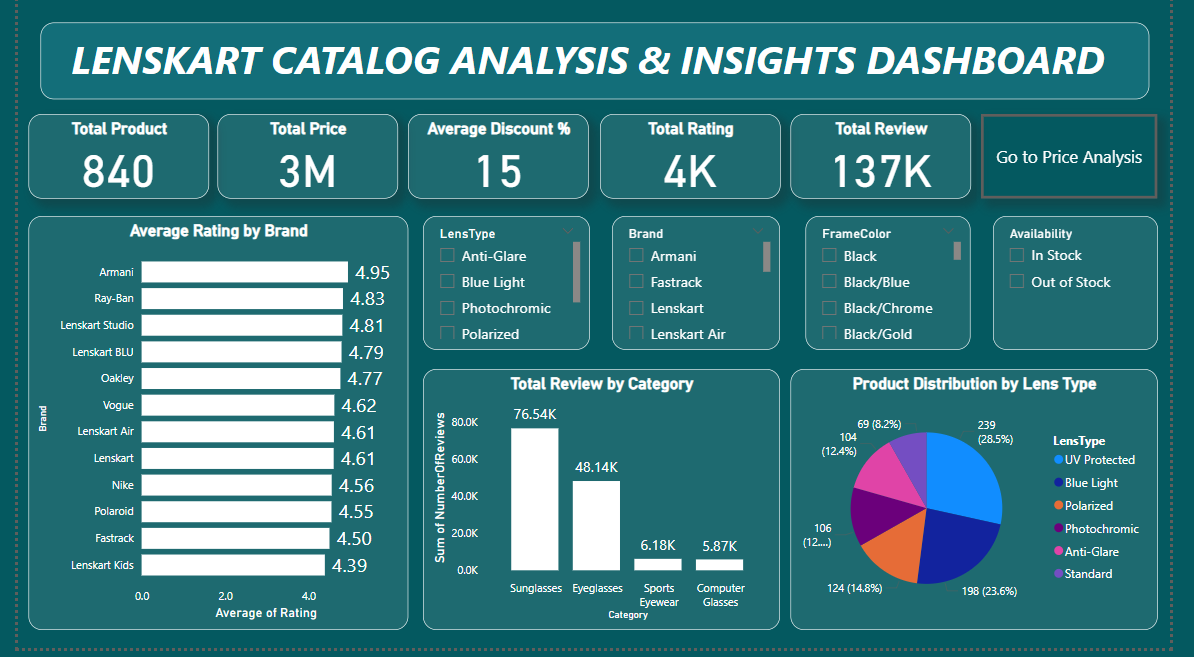

The dashboard page shown, as its layout file describes it:
{"tool":"powerbi","page":{"name":"Product & Sale Overview","canvas":[1280,720],"ordinal":0},"visuals":[{"type":"card","title":"Total Product","fields":{"Values":["CountNonNull(Dataset1.ProductName)"]},"box":[11.3,126.3,200.8,93.9],"z":0},{"type":"card","title":"Total Price","fields":{"Values":["Sum(Dataset1.Price (INR))"]},"box":[221.8,126.3,200.8,93.9],"z":1000},{"type":"card","title":"Avg Discount %","fields":{"Values":["Avg(Dataset1.Discount (%))"]},"box":[435.6,126.3,207.3,93.9],"z":2000},{"type":"card","title":"Total Rating","fields":{"Values":["Sum(Dataset1.Rating)"]},"box":[655.8,126.3,200.8,93.9],"z":3000},{"type":"card","title":"Total Review","fields":{"Values":["Sum(Dataset1.NumberOfReviews)"]},"box":[867.9,126.3,200.8,93.9],"z":4000},{"type":"clusteredBarChart","title":"Average Rating by Brand","fields":{"Category":["Dataset1.Brand"],"Y":["Avg(Dataset1.Rating)"]},"box":[11.3,239.6,424.2,459.9],"z":5000},{"type":"clusteredColumnChart","title":"Total Review by Category","fields":{"Category":["Dataset1.Category"],"Y":["Sum(Dataset1.NumberOfReviews)"]},"box":[463.1,409.7,396.7,289.8],"z":6000},{"type":"pieChart","title":"Product Distribution by Lens Type","fields":{"Category":["Dataset1.LensType"],"Y":["CountNonNull(Dataset1.ProductName)"]},"box":[874.4,409.7,391.9,289.8],"z":7000},{"type":"slicer","fields":{"Values":["Dataset1.LensType"]},"box":[468,239.6,184.6,149],"z":8000},{"type":"slicer","fields":{"Values":["Dataset1.Brand"]},"box":[673.6,239.6,186.2,149],"z":9000},{"type":"slicer","fields":{"Values":["Dataset1.FrameColor"]},"box":[879.2,239.6,184.6,149],"z":10000},{"type":"slicer","fields":{"Values":["Dataset1.Availability"]},"box":[1083.3,240,183.3,148.3],"z":11000},{"type":"actionButton","box":[1083.3,126.3,183,93.9],"z":12000},{"type":"textbox","box":[25,25,1231.7,85],"z":13000}]}

Visuals, with their boxes in screenshot pixels (x1, y1, x2, y2), scaled from the page's 1280x720 canvas onto the 1194x657 screenshot:
"Total Product" card: (left=11, top=115, right=198, bottom=201)
"Total Price" card: (left=207, top=115, right=394, bottom=201)
"Avg Discount %" card: (left=406, top=115, right=600, bottom=201)
"Total Rating" card: (left=612, top=115, right=799, bottom=201)
"Total Review" card: (left=810, top=115, right=997, bottom=201)
"Average Rating by Brand" clusteredBarChart: (left=11, top=219, right=406, bottom=638)
"Total Review by Category" clusteredColumnChart: (left=432, top=374, right=802, bottom=638)
"Product Distribution by Lens Type" pieChart: (left=816, top=374, right=1181, bottom=638)
slicer - Dataset1.LensType: (left=437, top=219, right=609, bottom=355)
slicer - Dataset1.Brand: (left=628, top=219, right=802, bottom=355)
slicer - Dataset1.FrameColor: (left=820, top=219, right=992, bottom=355)
slicer - Dataset1.Availability: (left=1011, top=219, right=1182, bottom=354)
actionButton: (left=1011, top=115, right=1181, bottom=201)
textbox: (left=23, top=23, right=1172, bottom=100)
